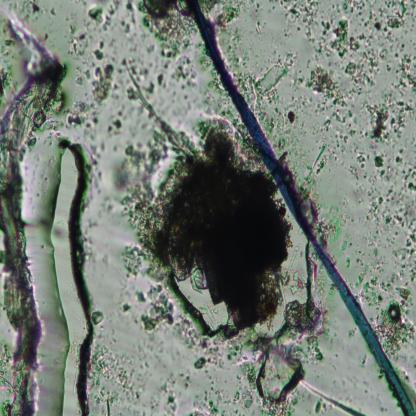Air bubble: (0, 15, 59, 414), (51, 137, 96, 414)
Background material: (144, 124, 298, 328), (115, 130, 180, 246), (121, 53, 192, 158), (227, 325, 307, 413), (121, 244, 175, 332), (67, 57, 117, 130), (87, 344, 139, 407), (174, 318, 224, 380), (143, 0, 196, 57), (244, 53, 298, 108), (306, 69, 357, 127), (364, 183, 416, 233), (366, 90, 414, 142), (285, 296, 324, 360), (378, 292, 416, 356), (265, 97, 305, 153), (304, 381, 366, 416), (195, 381, 256, 415), (278, 0, 320, 45), (146, 372, 190, 414), (361, 8, 394, 61), (315, 206, 351, 254), (357, 253, 386, 311), (223, 29, 250, 85), (154, 53, 196, 88), (389, 233, 416, 283), (306, 19, 333, 67), (332, 20, 364, 60), (206, 2, 247, 32), (345, 51, 381, 83), (387, 147, 416, 185), (327, 125, 358, 159), (287, 245, 308, 295), (89, 0, 121, 32), (344, 70, 378, 99), (66, 21, 92, 58), (385, 0, 416, 29), (394, 54, 416, 94), (107, 104, 126, 140), (309, 144, 327, 178), (368, 166, 394, 184), (24, 0, 46, 21), (341, 0, 366, 16), (370, 151, 386, 171), (354, 148, 368, 170), (93, 309, 105, 330), (294, 70, 306, 89), (255, 20, 268, 36), (348, 164, 359, 180), (396, 42, 408, 54), (254, 4, 261, 14), (385, 62, 392, 71), (268, 8, 272, 14), (271, 6, 276, 10)
Cotton: (192, 0, 416, 416)
